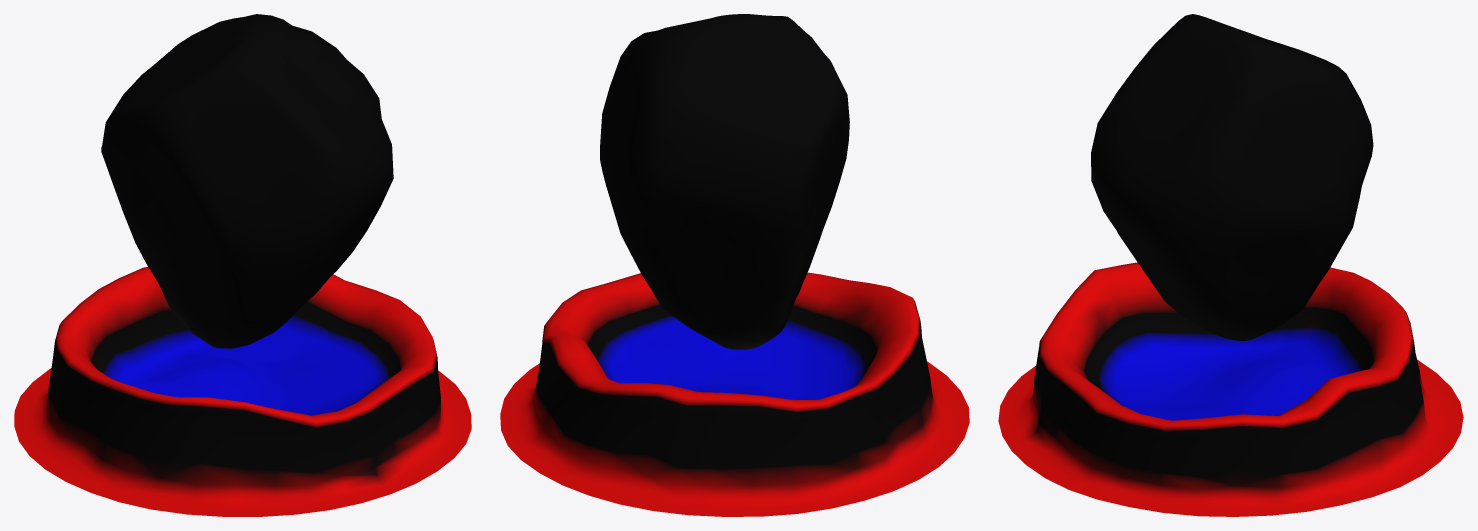
Rendered from GroundObject09C.fbx.
3 renders of one model, left to right at view 1: azimuth 30°, elevation 25°; view 2: azimuth 150°, elevation 25°; view 3: azimuth 270°, elevation 25°, orthographic. The views are drawn at different scales.
Parts seen in each view (by area): view 1: GroundObject09C; view 2: GroundObject09C; view 3: GroundObject09C.
Part boxes in pixels (<box>): GroundObject09C: <box>14,14,471,516</box>; GroundObject09C: <box>500,14,969,516</box>; GroundObject09C: <box>998,14,1463,516</box>.
Bounding box in the file's own units: 1.68 × 1.57 × 1.68.
